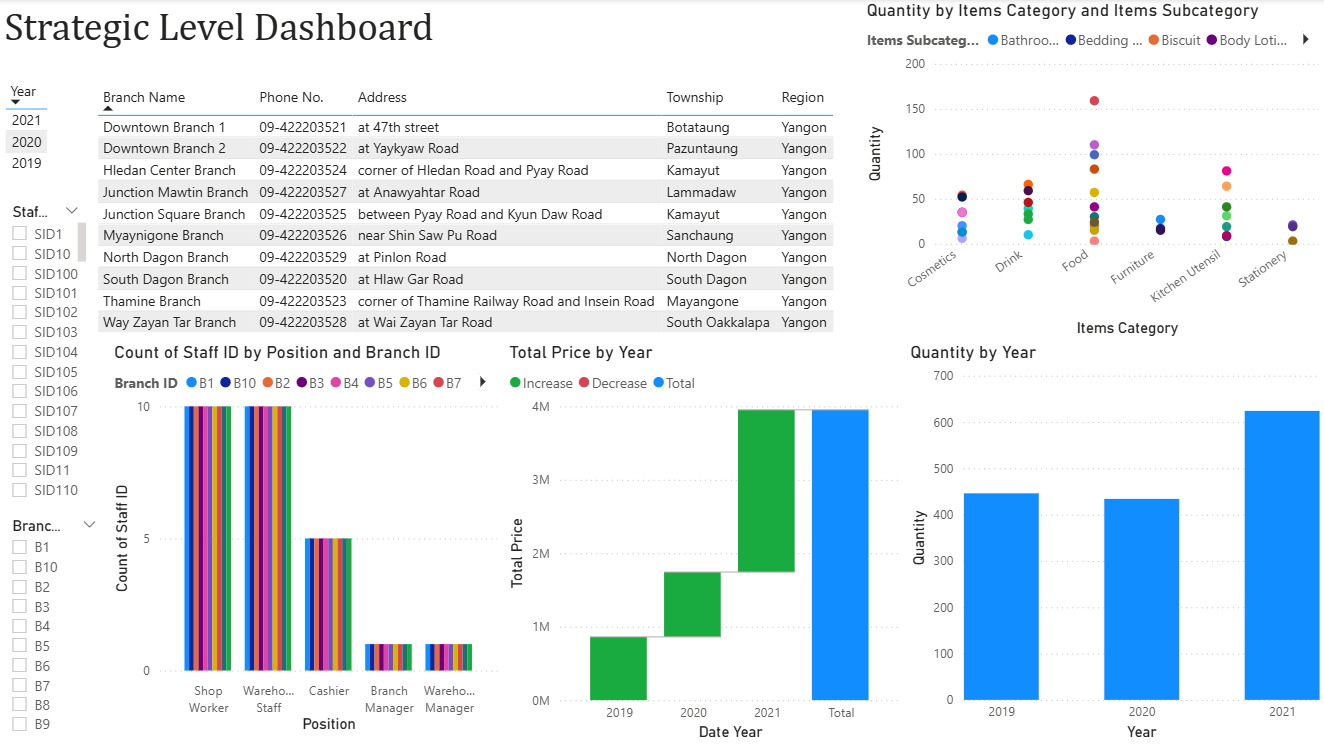

This screenshot's page, from the dashboard's own definition file:
{"tool":"powerbi","page":{"name":"Strategic","canvas":[1280,720],"ordinal":2},"visuals":[{"type":"waterfallChart","fields":{"Category":["Sale.Date.Variation.Date Hierarchy.Year"],"Y":["Sale.Total Price"]},"box":[486.9,330.9,388,389.9],"z":0},{"type":"clusteredColumnChart","fields":{"Series":["Staff.Branch ID"],"Category":["Staff.Position"],"Y":["Staff.Salary (MMK) Hierarchy.Staff ID"]},"box":[106.5,330.9,380.4,382.3],"z":1000},{"type":"slicer","fields":{"Values":["Staff.Staff ID"]},"box":[0,192.1,89.4,298.6],"z":2000},{"type":"textbox","box":[0,0,445.1,78],"z":3000},{"type":"lineClusteredColumnComboChart","fields":{"Category":["Sale.Date.Variation.Date Hierarchy.Year"],"Y":["Sale.Quantity"]},"box":[874.9,330.9,405.1,389.9],"z":4000},{"type":"lineChart","fields":{"Y":["Sale.Quantity"],"Category":["Items Category.Items Category","Sale.Date.Variation.Date Hierarchy.Year"],"Series":["Items Category.Items Subcategory"]},"box":[833,0,447,330.9],"z":5000},{"type":"tableEx","fields":{"Values":["Branch.Name","Branch.Phone No.","Branch.Address","Branch.Township","Branch.Region"]},"box":[89.4,78,743.7,253],"z":6000},{"type":"tableEx","fields":{"Values":["Sale.Date.Variation.Date Hierarchy.Year"]},"box":[0,72.3,89.4,106.5],"z":7000},{"type":"slicer","fields":{"Values":["Branch.Branch ID"]},"box":[0,494.5,106.5,226.3],"z":8000}]}

Visuals, with their boxes in screenshot pixels (x1, y1, x2, y2), scaled from the page's 1280x720 canvas onto the 1324x745 screenshot:
waterfallChart - Sale.Date.Variation.Date Hierarchy.Year x Sale.Total Price: bbox=(504, 342, 905, 744)
clusteredColumnChart - Staff.Branch ID x Staff.Position: bbox=(110, 342, 504, 738)
slicer - Staff.Staff ID: bbox=(0, 199, 92, 508)
textbox: bbox=(0, 0, 460, 81)
lineClusteredColumnComboChart - Sale.Date.Variation.Date Hierarchy.Year x Sale.Quantity: bbox=(905, 342, 1323, 744)
lineChart - Sale.Quantity x Items Category.Items Category: bbox=(862, 0, 1323, 342)
tableEx - Branch.Name x Branch.Phone No.: bbox=(92, 81, 862, 342)
tableEx - Sale.Date.Variation.Date Hierarchy.Year: bbox=(0, 75, 92, 185)
slicer - Branch.Branch ID: bbox=(0, 512, 110, 744)
